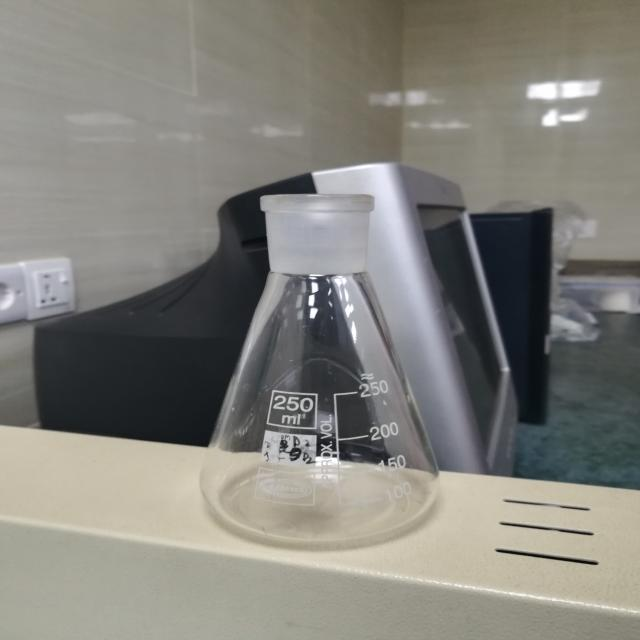Conical_Flask: (125, 157, 504, 561)
